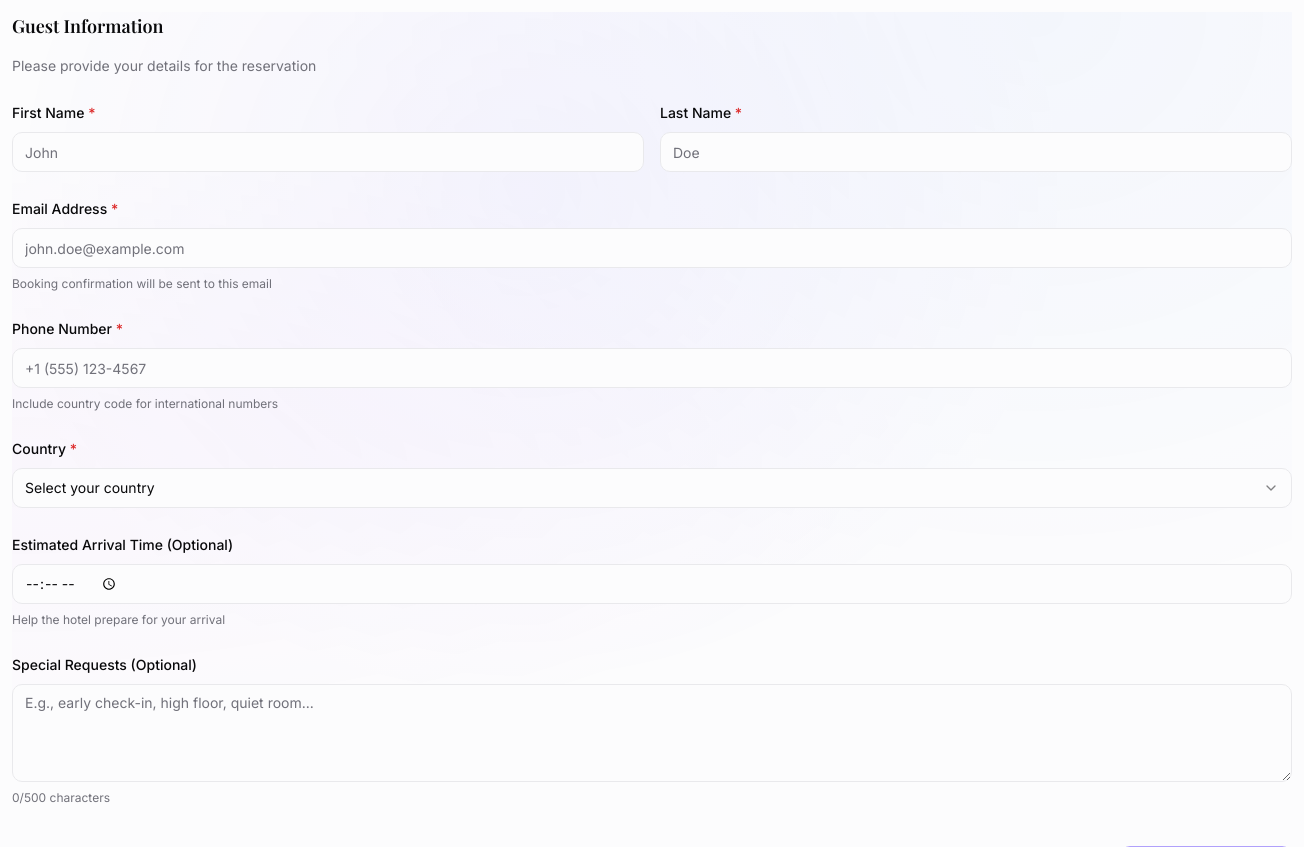
Test: GuestInfoForm Component › Required Field Validation › should show error when first name is empty
Step 1. Click the field labelled "First Name *" → (328, 152), box 12,132 -> 644,172
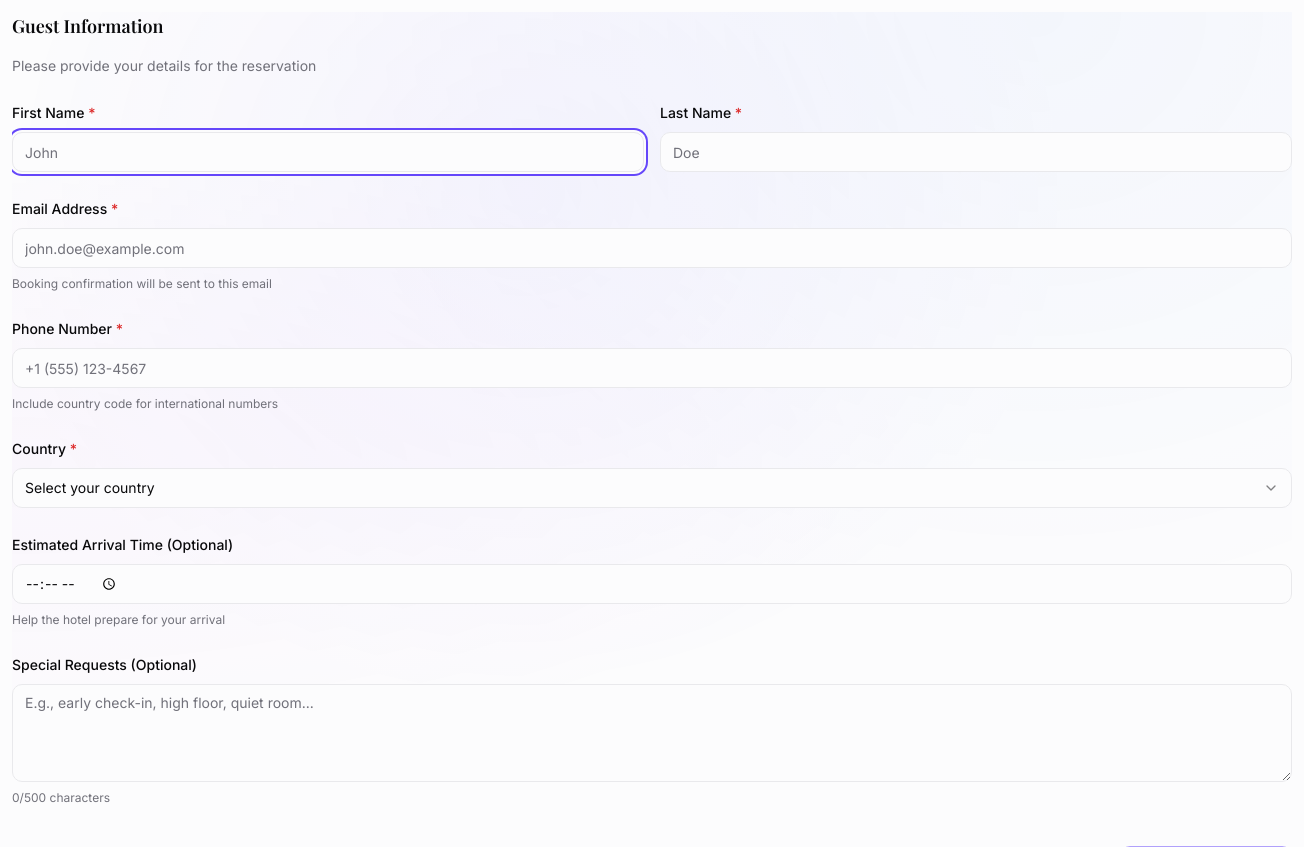
Step 2. Press Tab
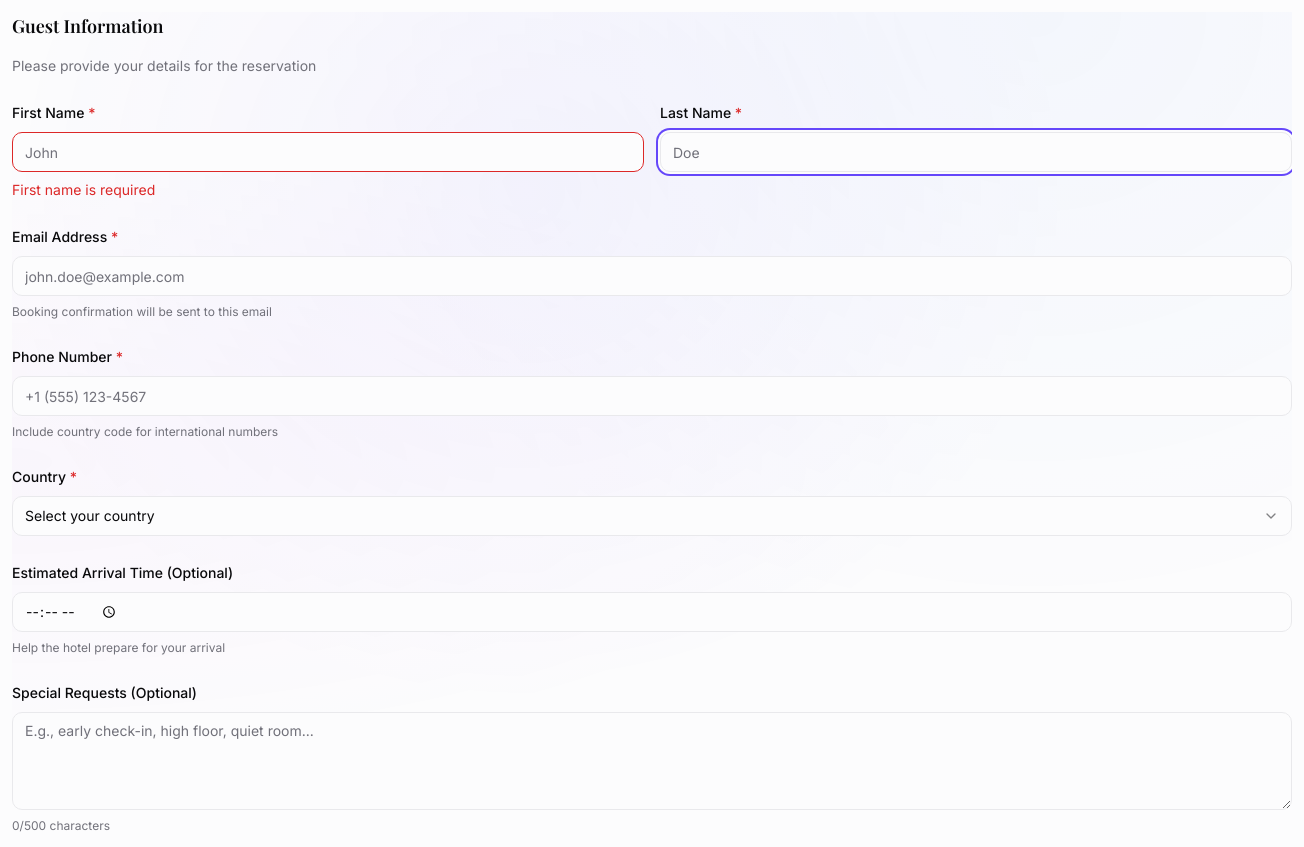
Expected: the text "First name is required" is shown, 12,181 -> 155,198
